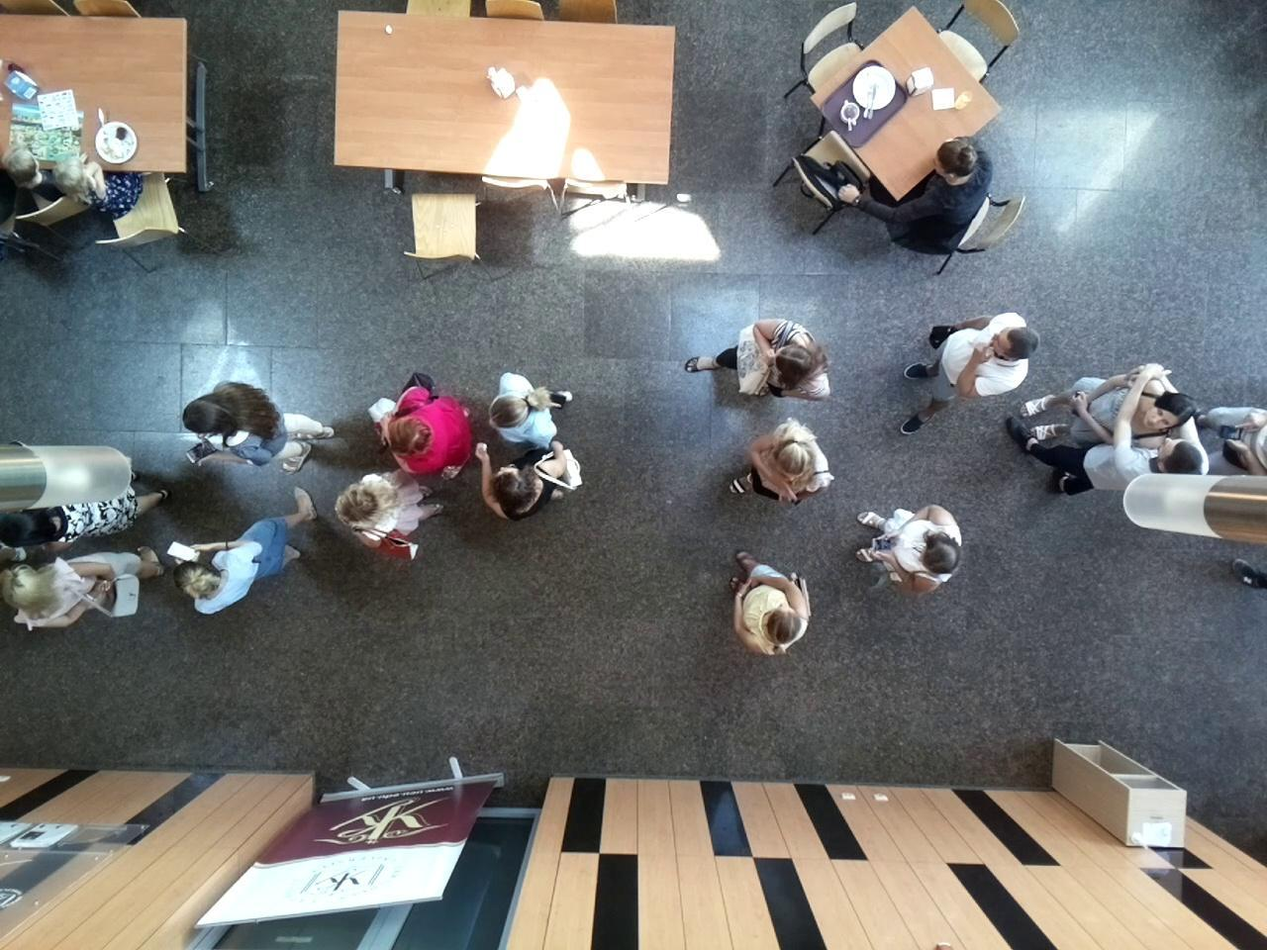person: (903, 297, 1044, 430), (706, 560, 827, 687), (308, 477, 429, 599), (891, 129, 1000, 261), (1035, 347, 1181, 445), (698, 318, 859, 404), (9, 545, 141, 649), (861, 496, 983, 603), (190, 383, 313, 489), (716, 422, 849, 512), (172, 509, 289, 609), (471, 456, 583, 559), (390, 355, 473, 477), (489, 340, 575, 444), (52, 140, 144, 235)
